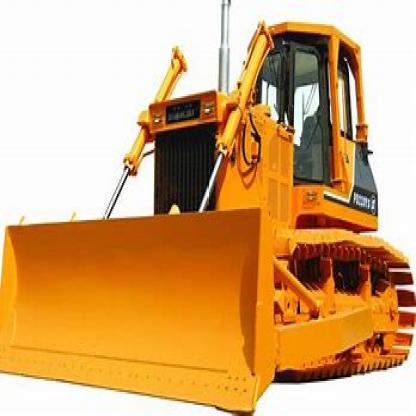bull_dozer/loader/grader: (5, 7, 415, 405)
